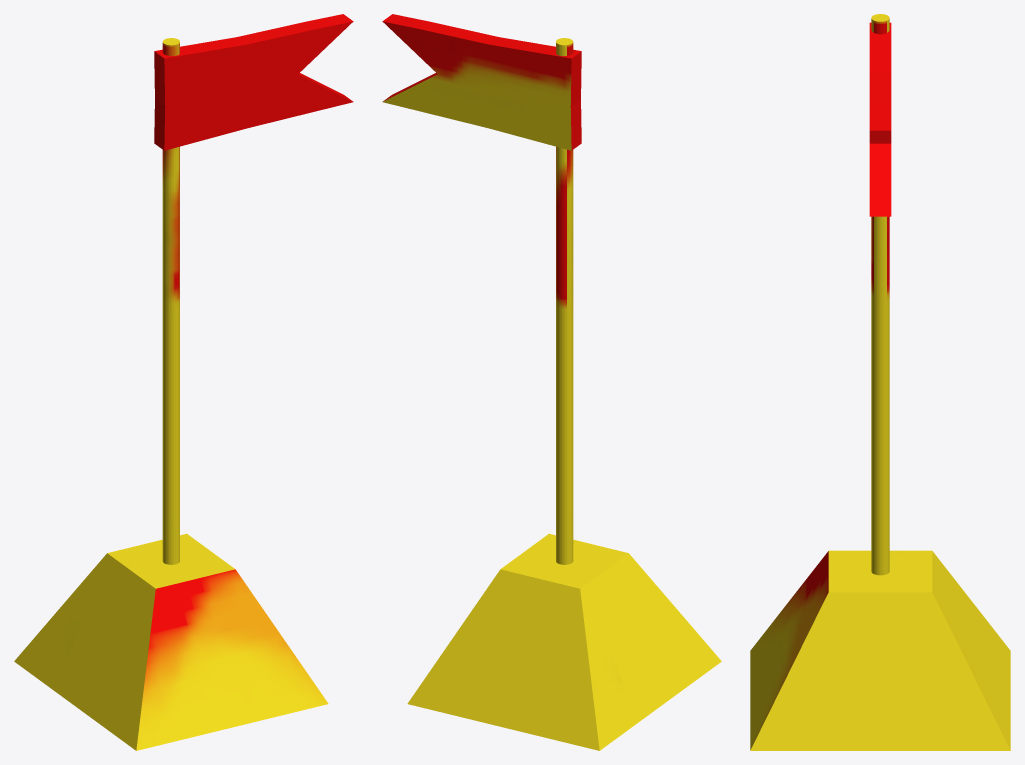
The model's file is enemy1.obj.
3 views of the same model, side by side, from view 1: azimuth 30°, elevation 25°; view 2: azimuth 150°, elevation 25°; view 3: azimuth 270°, elevation 25° (orthographic). The views are drawn at different scales.
Parts seen in each view (by area): view 1: goal_post; view 2: goal_post; view 3: goal_post.
Boxes of the visible parts, x1=… form: goal_post: x1=14, y1=14, x2=353, y2=750; goal_post: x1=382, y1=14, x2=721, y2=750; goal_post: x1=750, y1=14, x2=1010, y2=750.
Size of the model in its own units: 1.74 by 3.89 by 1.35.
